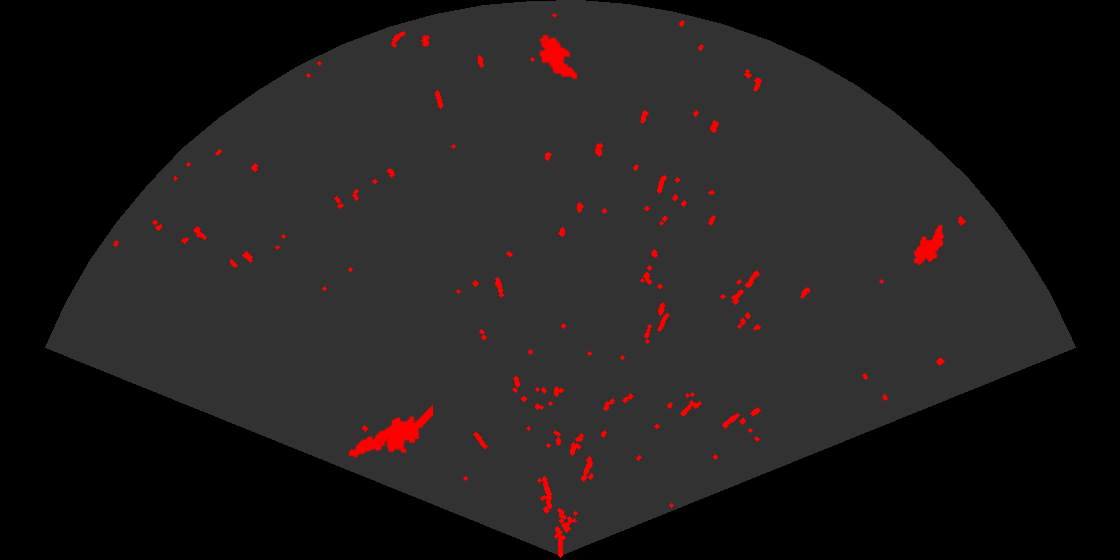AUV: (538, 33, 579, 81), (912, 223, 946, 267)
frogman: (347, 402, 433, 460)
